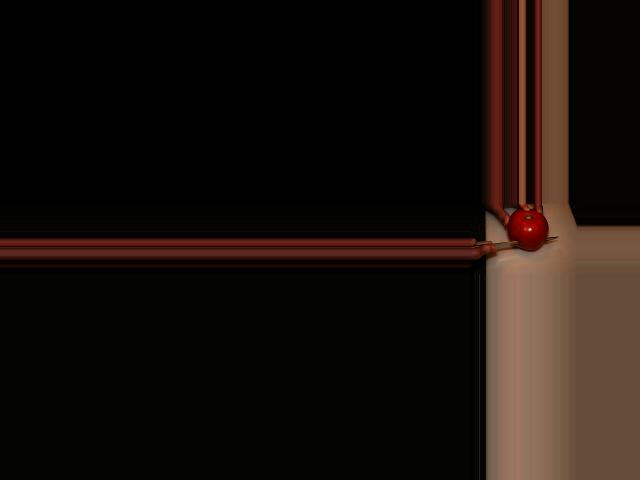tomato: (507, 208, 549, 250)
